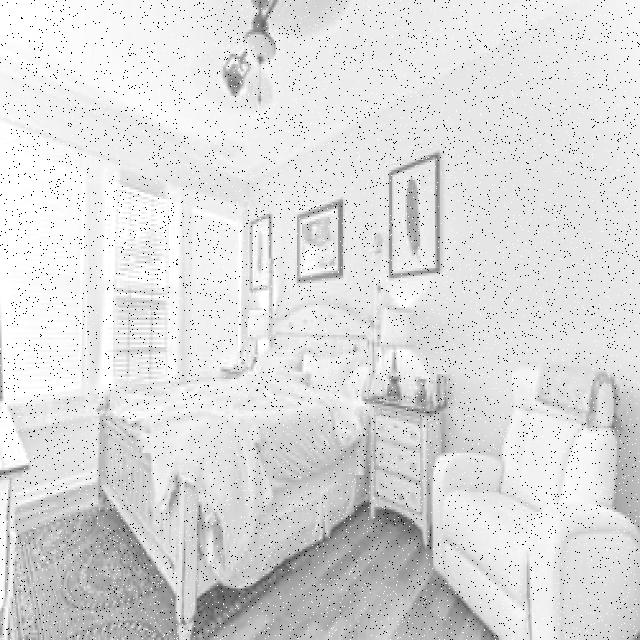bed: (94, 310, 374, 594)
